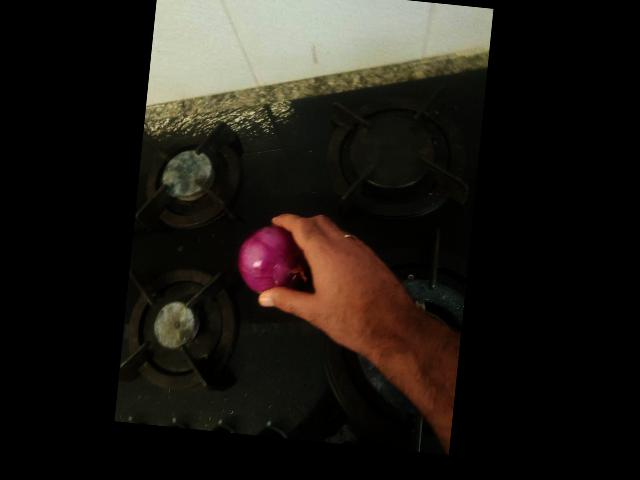onion: (238, 227, 303, 300)
